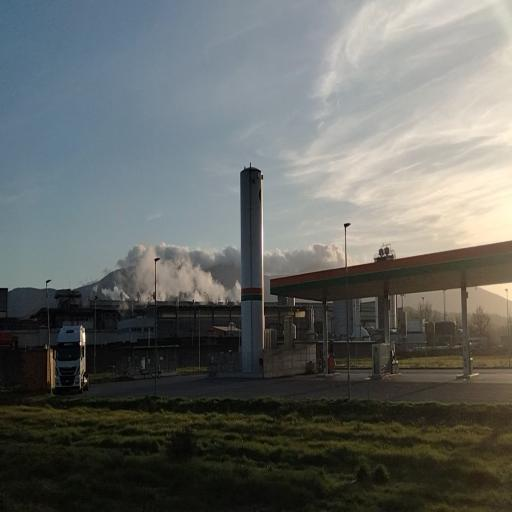leakage: (96, 242, 244, 310)
